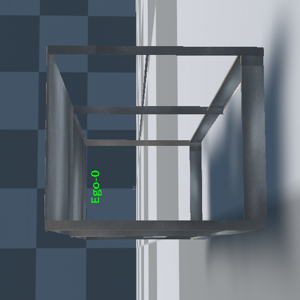Rack: (32, 58, 258, 255)
